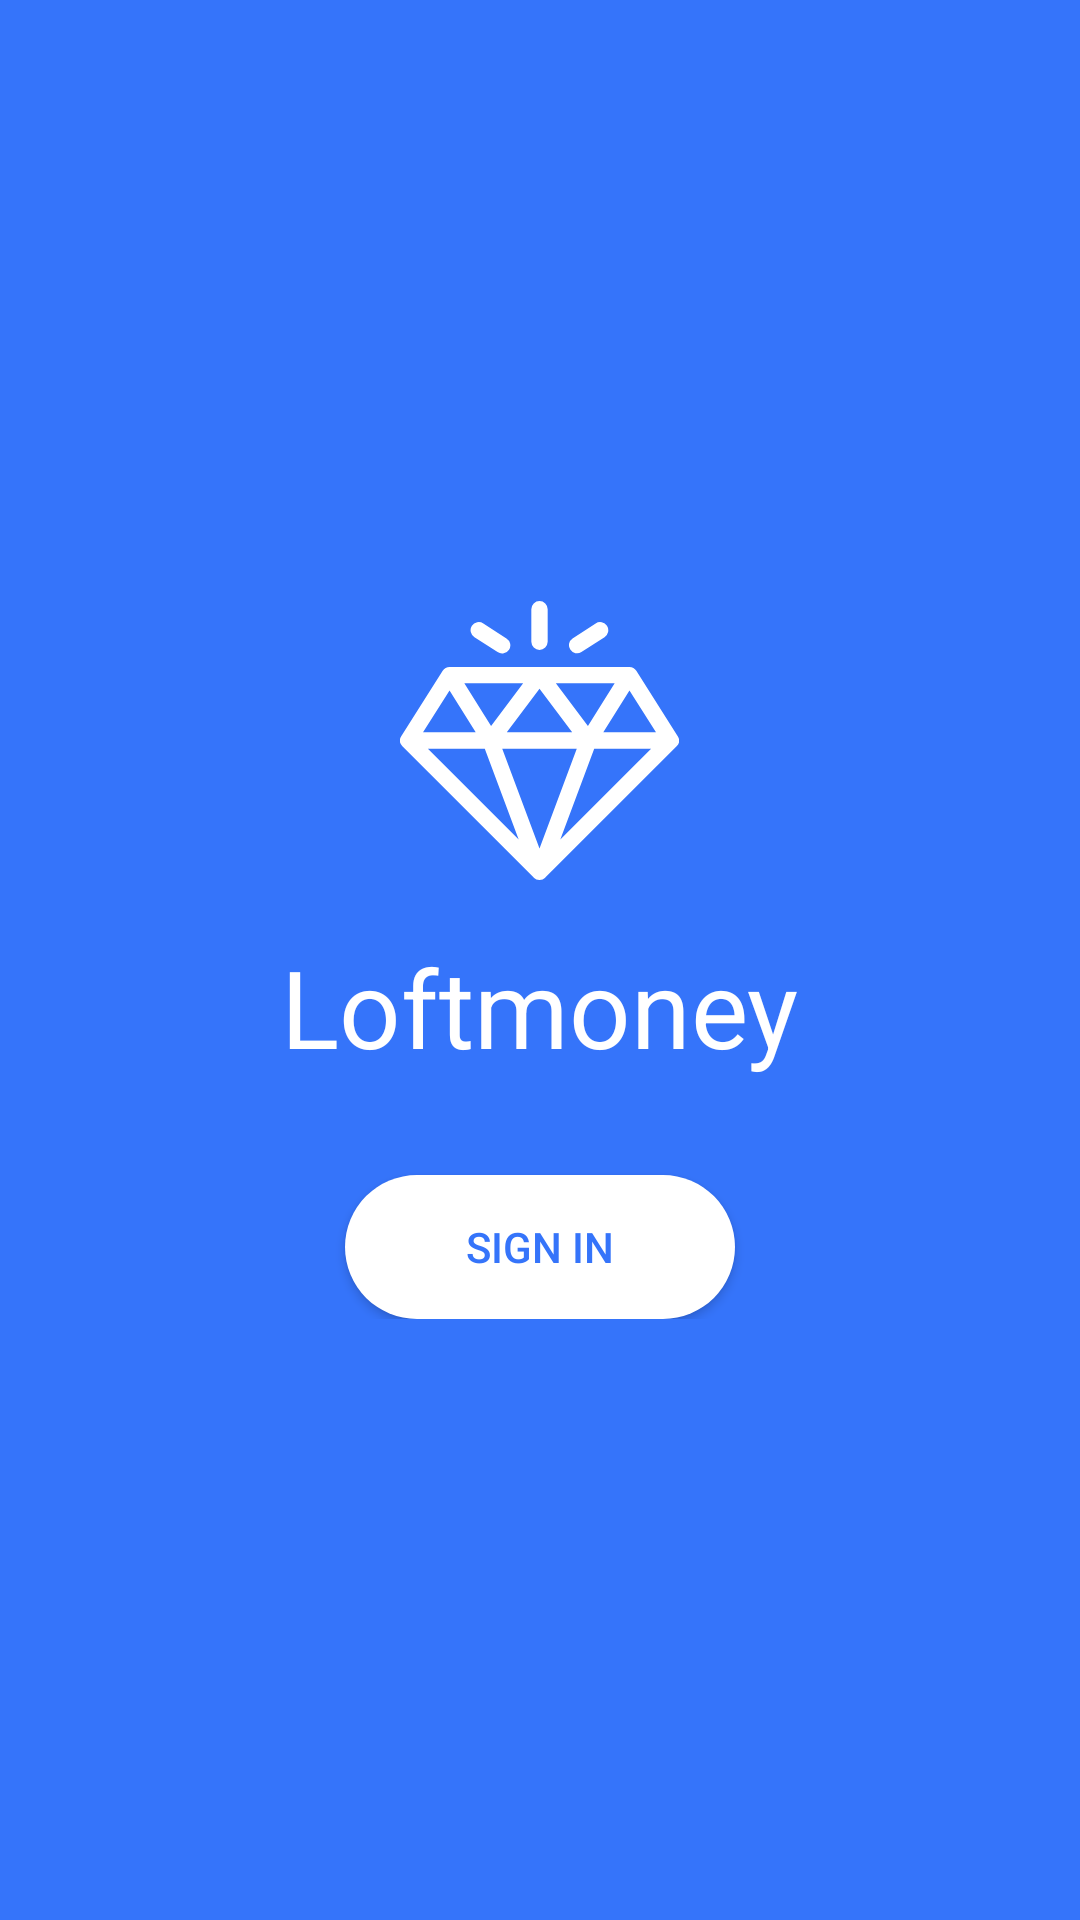

Icons on this 1080×1920 Android screen, each with the point to tap as (x=x, y=y):
diamond: (x=539, y=740)
